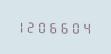four: (83, 20, 93, 34)
one: (17, 19, 27, 33)
six: (50, 19, 60, 34), (61, 20, 71, 34)
two: (28, 19, 38, 33)
zero: (39, 19, 49, 33), (72, 20, 82, 34)
